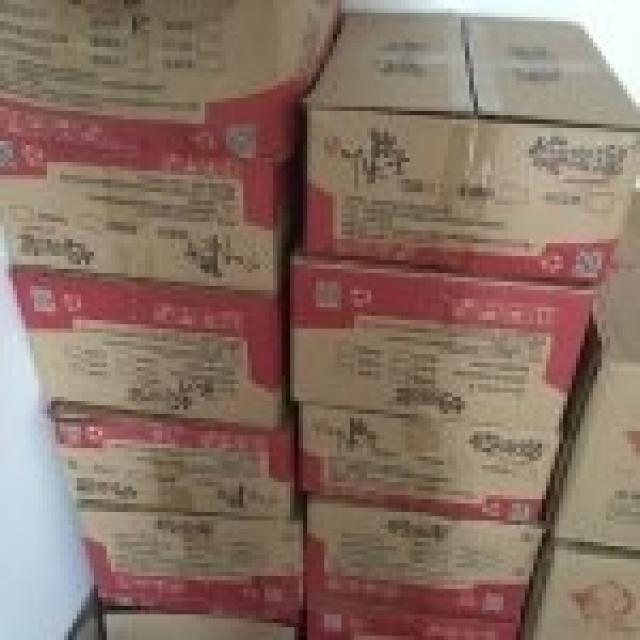box: (0, 1, 341, 290), (298, 12, 636, 289), (293, 250, 596, 435), (9, 272, 291, 427), (291, 397, 558, 522), (546, 191, 636, 550), (302, 499, 546, 626), (53, 399, 296, 514), (80, 495, 303, 618), (519, 526, 636, 636), (299, 602, 519, 636), (102, 607, 299, 636)
